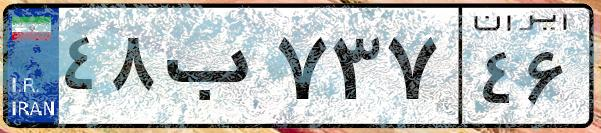3: (330, 28, 385, 110)
4: (57, 26, 110, 100), (475, 38, 525, 113)
6: (525, 38, 570, 115)
7: (270, 28, 330, 110), (385, 28, 445, 110)
8: (110, 28, 158, 98)
ب: (158, 20, 270, 120)
